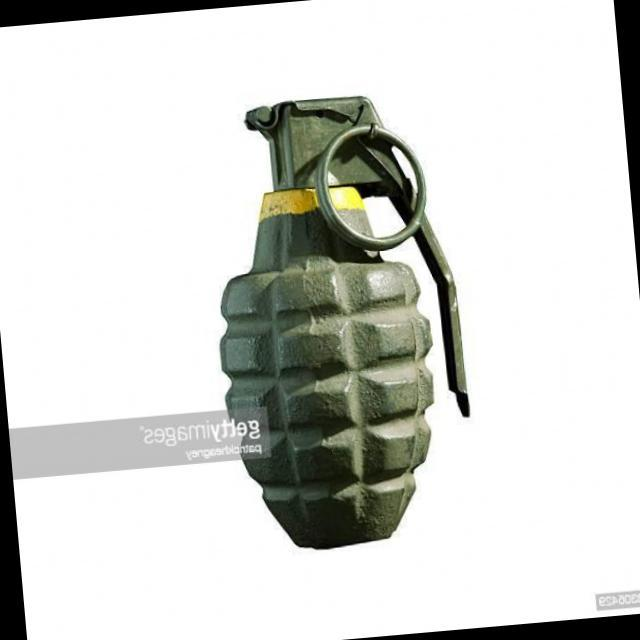grenade: (187, 84, 488, 567)
